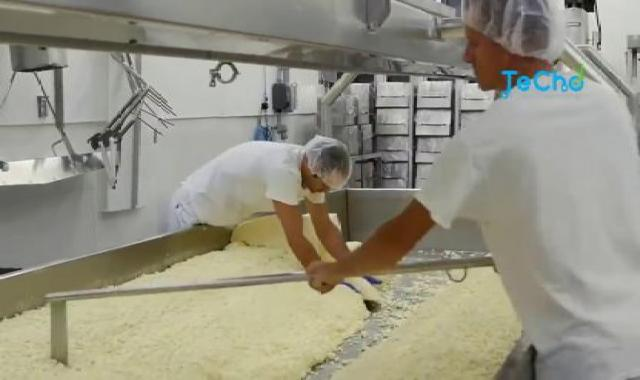hairnet: (455, 0, 574, 73), (303, 134, 357, 194)
